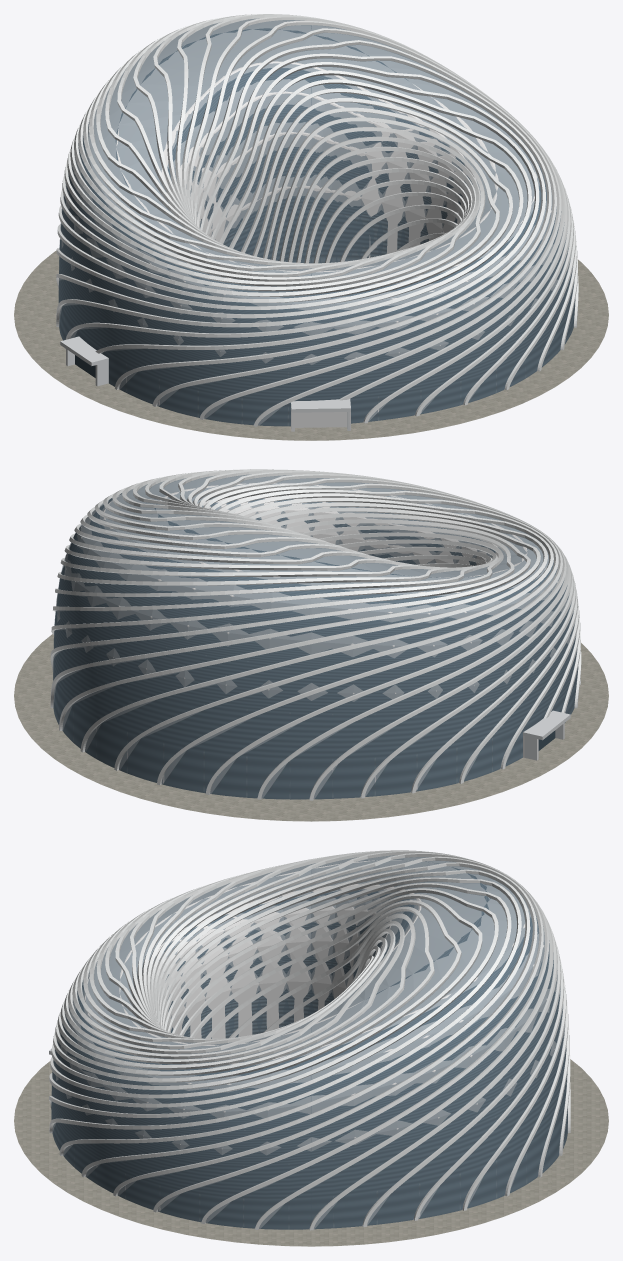
Rendered from phoenixcenter.glb.
3 renders of one model, top to bottom at view 1: azimuth 30°, elevation 25°; view 2: azimuth 150°, elevation 25°; view 3: azimuth 270°, elevation 25°, orthographic.
Parts seen in each view (by area): view 1: Center, Massing, COL_shell0, COL_shell14, COL_shell15, COL_shell35, COL_shell13, COL_shell1, COL_shell12, COL_shell16, COL_shell34, COL_shell2 (+27 smaller); view 2: Center, Massing, COL_shell12, COL_shell11, COL_shell10, COL_shell9, COL_shell8, COL_shell13, COL_shell7, COL_shell14, COL_shell6, COL_shell15 (+11 smaller); view 3: Center, Massing, COL_shell3, COL_shell4, COL_shell19, COL_shell5, COL_shell20, COL_shell2, COL_shell18, COL_shell6, COL_shell1, COL_shell21 (+15 smaller).
Part boxes in pixels (x1=…): Center: x1=14, y1=14, x2=608, y2=440; Massing: x1=58, y1=26, x2=575, y2=426; COL_shell0: x1=381, y1=91, x2=485, y2=253; COL_shell14: x1=88, y1=103, x2=241, y2=228; COL_shell15: x1=61, y1=124, x2=226, y2=245; COL_shell35: x1=404, y1=111, x2=511, y2=247; COL_shell13: x1=97, y1=84, x2=254, y2=218; COL_shell1: x1=361, y1=73, x2=463, y2=257; COL_shell12: x1=117, y1=66, x2=263, y2=211; COL_shell16: x1=61, y1=147, x2=212, y2=269; COL_shell34: x1=425, y1=131, x2=524, y2=240; COL_shell2: x1=344, y1=58, x2=437, y2=206; Center: x1=14, y1=469, x2=608, y2=821; Massing: x1=53, y1=493, x2=578, y2=799; COL_shell12: x1=311, y1=543, x2=353, y2=701; COL_shell11: x1=268, y1=537, x2=311, y2=700; COL_shell10: x1=226, y1=535, x2=289, y2=697; COL_shell9: x1=184, y1=528, x2=266, y2=693; COL_shell8: x1=146, y1=522, x2=247, y2=686; COL_shell13: x1=334, y1=550, x2=395, y2=701; COL_shell7: x1=113, y1=521, x2=232, y2=674; COL_shell14: x1=359, y1=557, x2=436, y2=698; COL_shell6: x1=86, y1=516, x2=208, y2=665; COL_shell15: x1=386, y1=564, x2=474, y2=697; Center: x1=14, y1=850, x2=608, y2=1246; Massing: x1=51, y1=859, x2=567, y2=1229; COL_shell3: x1=369, y1=963, x2=477, y2=1124; COL_shell4: x1=379, y1=951, x2=510, y2=1111; COL_shell19: x1=237, y1=872, x2=286, y2=1030; COL_shell5: x1=380, y1=939, x2=536, y2=1095; COL_shell20: x1=200, y1=883, x2=258, y2=1037; COL_shell2: x1=355, y1=977, x2=438, y2=1132; COL_shell18: x1=275, y1=864, x2=311, y2=1022; COL_shell6: x1=380, y1=928, x2=554, y2=1076; COL_shell1: x1=336, y1=992, x2=397, y2=1144; COL_shell21: x1=166, y1=897, x2=230, y2=1038.
Bounding box in the file's own units: 136 × 55.58 × 136.
Materials: 10 (2 with a texture image).
